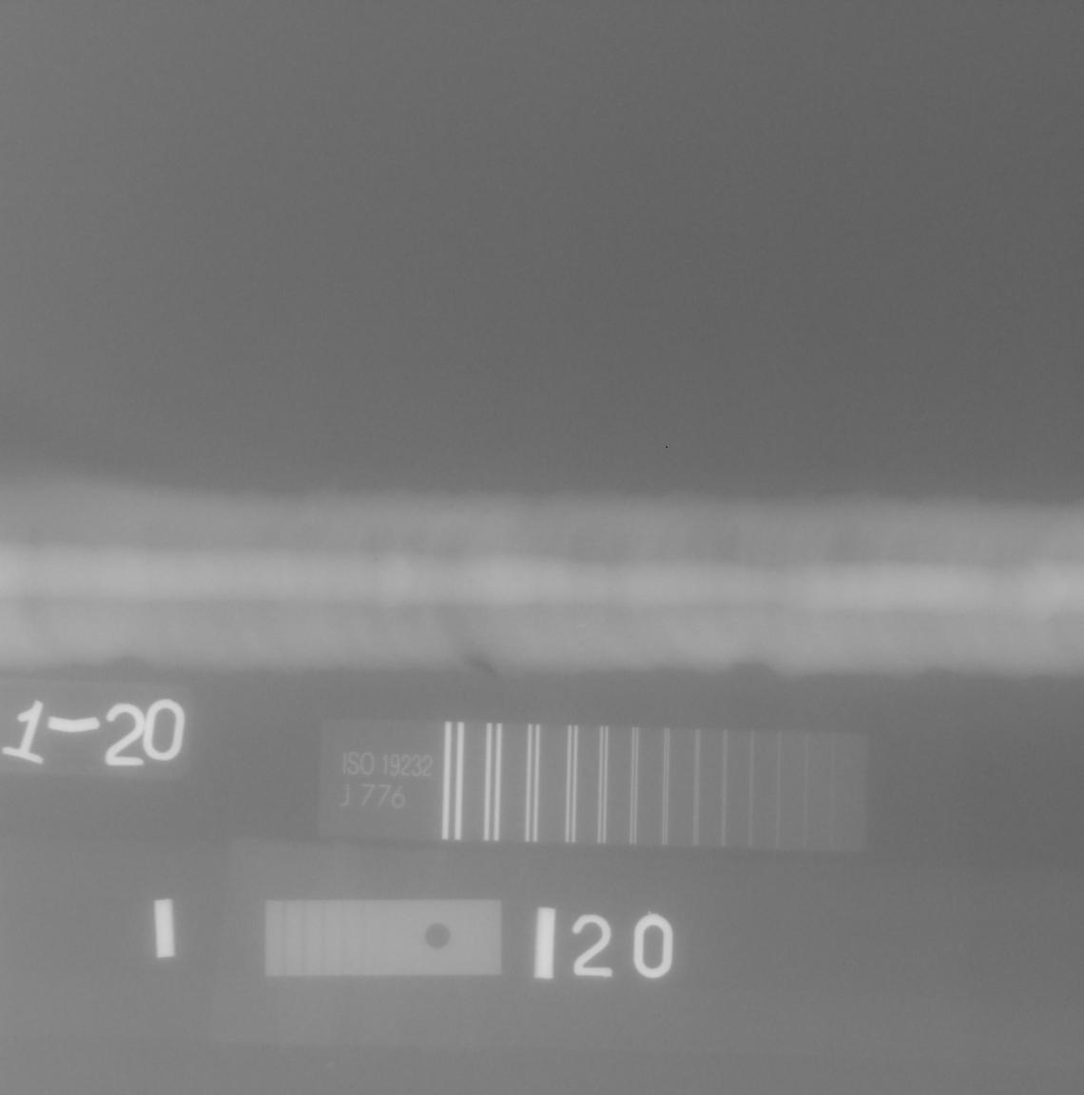Pore/Porosity: (374, 557, 379, 563), (467, 578, 472, 583)
Reference Standard 1: (265, 899, 500, 976)
